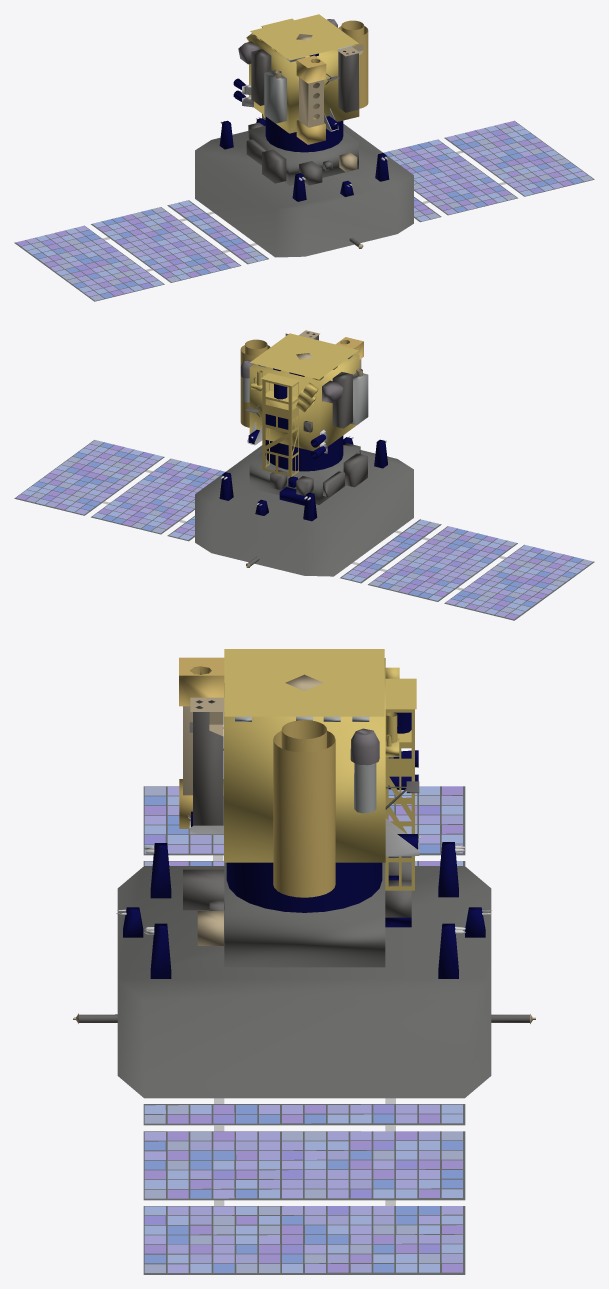
File: soho.glb
3 renders of one model, top to bottom at view 1: azimuth 30°, elevation 25°; view 2: azimuth 150°, elevation 25°; view 3: azimuth 270°, elevation 25°, orthographic. The views are drawn at different scales.
Parts seen in each view (by area): view 1: Fake; view 2: Fake; view 3: Fake.
Part boxes in pixels (x1,y1,x2,y2): Fake: (14,14,594,301); Fake: (14,330,594,620); Fake: (73,649,535,1274).
Bounding box in the file's own units: 43.27 × 14.43 × 17.34.
Materials: 1 (1 with a texture image).
